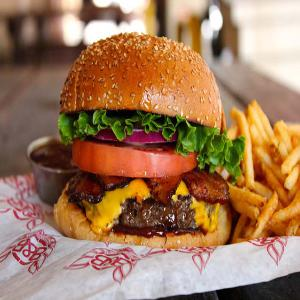cheeseburger: (37, 24, 231, 258)
fries: (234, 96, 300, 247)
